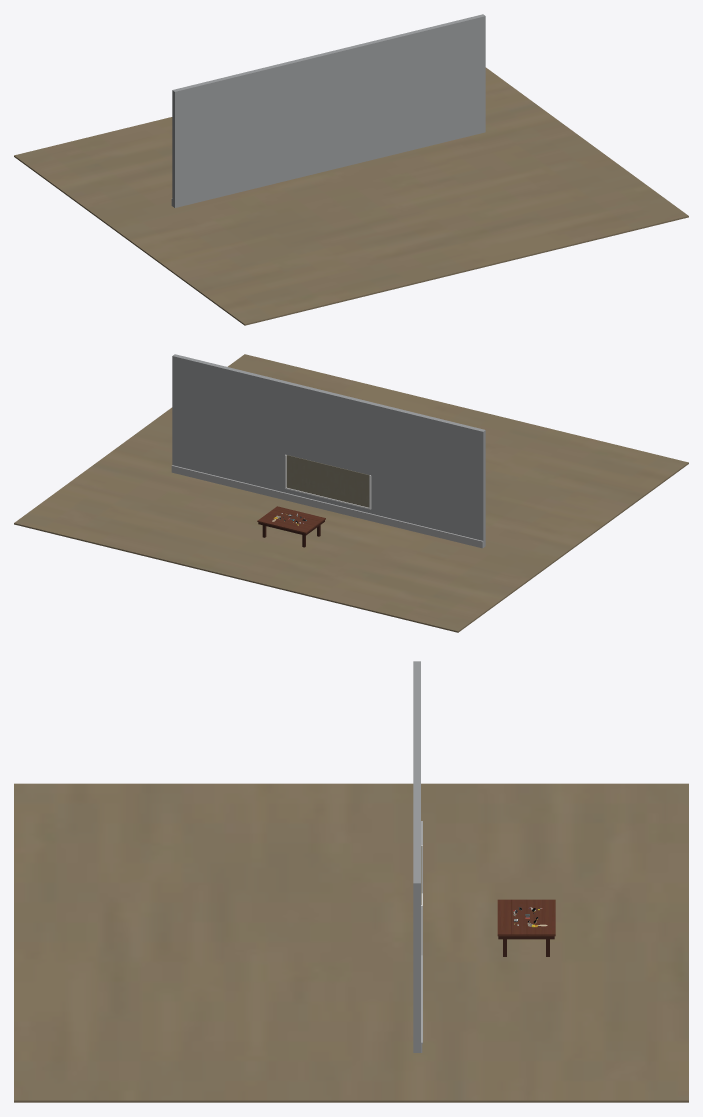
Rendered from viga.glb.
3 views of the same model, one above another, from view 1: azimuth 30°, elevation 25°; view 2: azimuth 150°, elevation 25°; view 3: azimuth 270°, elevation 25° (orthographic). The views are drawn at different scales.
Parts seen in each view (by area): view 1: ENV_floor_plane, ENV_wall_grey; view 2: ENV_floor_plane, ENV_wall_grey, ENV_wall_panel, ENV_wall_tile, wooden_table_top, ENV_wall_ledge; view 3: ENV_floor_plane, ENV_wall_grey, wooden_table_top.
Boxes of the visible parts, <box> form: ENV_floor_plane: <box>14,67,688,325</box>; ENV_wall_grey: <box>172,14,485,207</box>; ENV_floor_plane: <box>14,354,688,632</box>; ENV_wall_grey: <box>172,354,485,547</box>; ENV_wall_panel: <box>286,455,369,507</box>; ENV_wall_tile: <box>171,467,483,548</box>; wooden_table_top: <box>257,506,325,533</box>; ENV_wall_ledge: <box>171,465,483,542</box>; ENV_floor_plane: <box>14,783,688,1102</box>; ENV_wall_grey: <box>413,661,420,1052</box>; wooden_table_top: <box>497,899,555,936</box>.
Size of the model in its own units: 20 by 5.06 by 18.
Materials: 32 (10 with a texture image).
